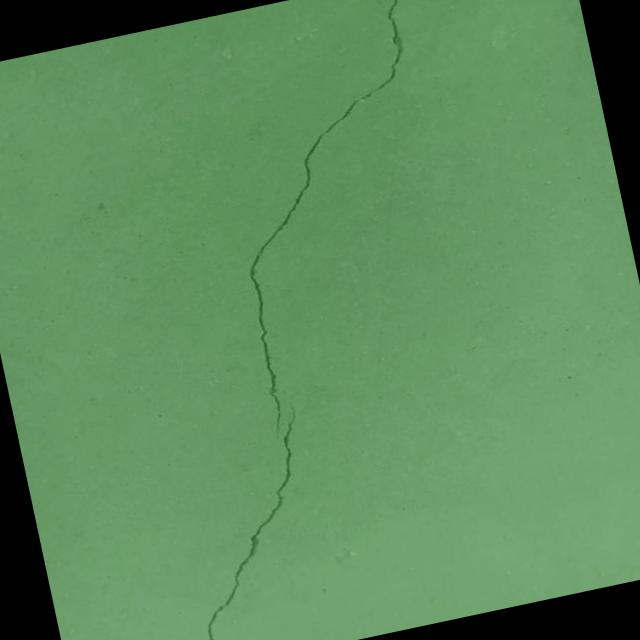crack: (187, 0, 486, 438), (160, 405, 345, 640)
